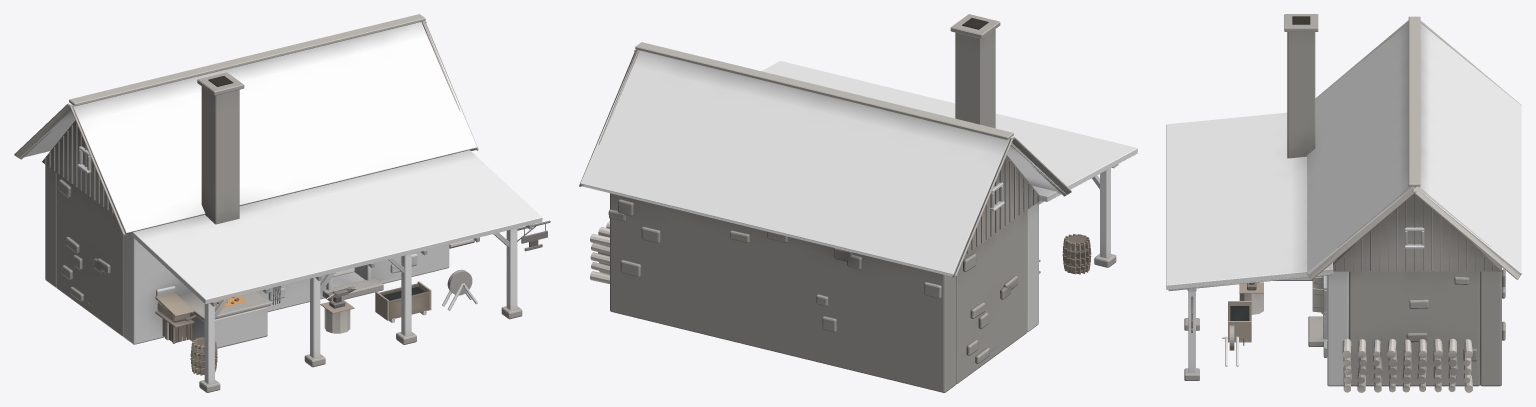
File: forge.glb
3 renders of one model, left to right at view 1: azimuth 30°, elevation 25°; view 2: azimuth 150°, elevation 25°; view 3: azimuth 270°, elevation 25°, orthographic. The views are drawn at different scales.
Parts seen in each view (by area): view 1: anvil_face; view 2: anvil_face; view 3: anvil_face.
Boxes of the visible parts, bbox=[...] form: anvil_face: bbox=[14, 14, 550, 392]; anvil_face: bbox=[579, 14, 1137, 392]; anvil_face: bbox=[1166, 14, 1521, 392].
Bounding box in the file's own units: 10.54 × 6.97 × 8.96.
